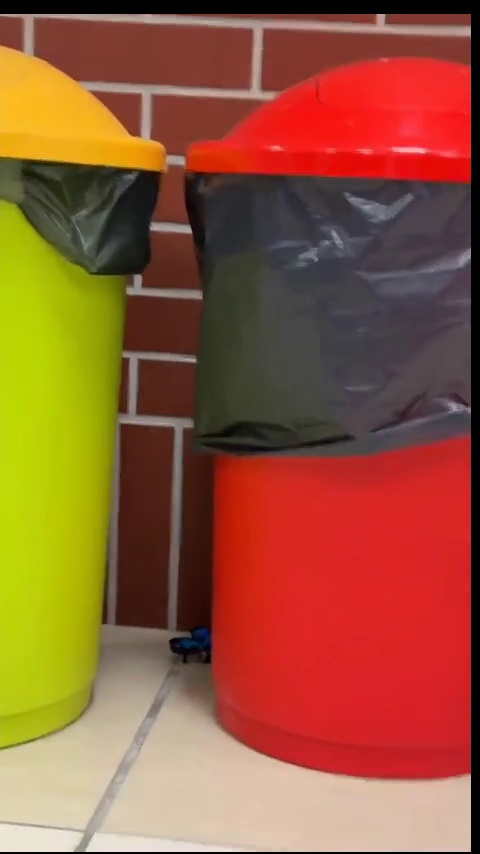drone: (162, 627, 210, 667)
